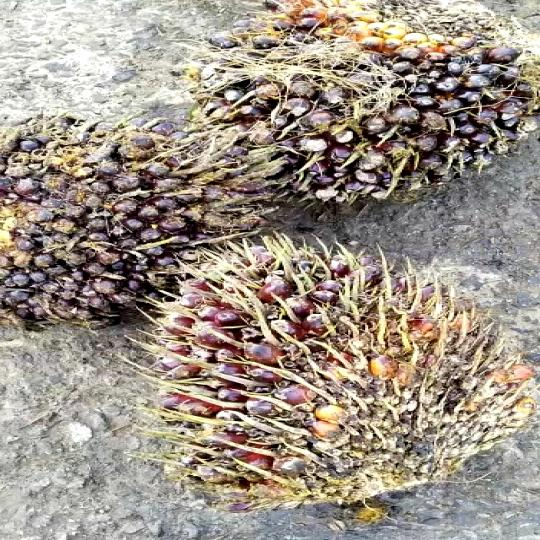kurang masak: (117, 217, 497, 508), (160, 0, 540, 221), (0, 102, 250, 323)
